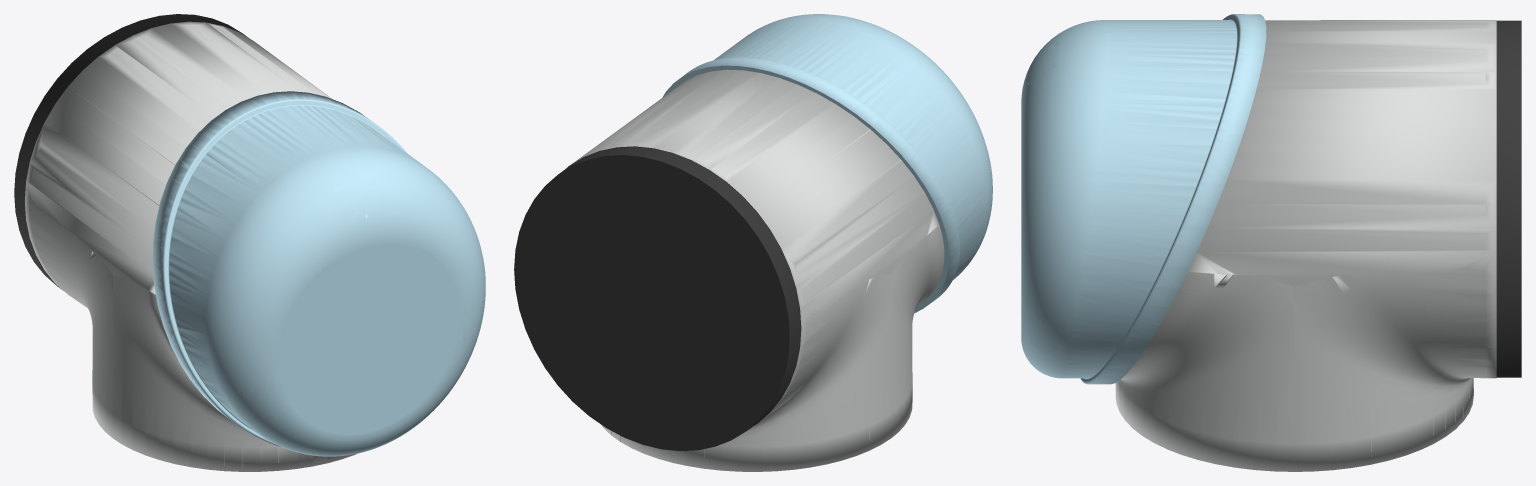
File: wrist2.dae
3 renders of one model, left to right at view 1: azimuth 30°, elevation 25°; view 2: azimuth 150°, elevation 25°; view 3: azimuth 270°, elevation 25°, orthographic. The views are drawn at different scales.
Parts seen in each view (by area): view 1: Actor1, Actor0; view 2: Actor0, Actor1; view 3: Actor0, Actor1.
Boxes of the visible parts, <box> form: Actor1: <box>152,91,485,456</box>; Actor0: <box>14,14,356,471</box>; Actor0: <box>514,69,944,471</box>; Actor1: <box>662,14,992,313</box>; Actor0: <box>1115,20,1521,471</box>; Actor1: <box>1021,14,1266,384</box>.
Size of the model in its own units: 0.0775 by 0.1047 by 0.0842.
